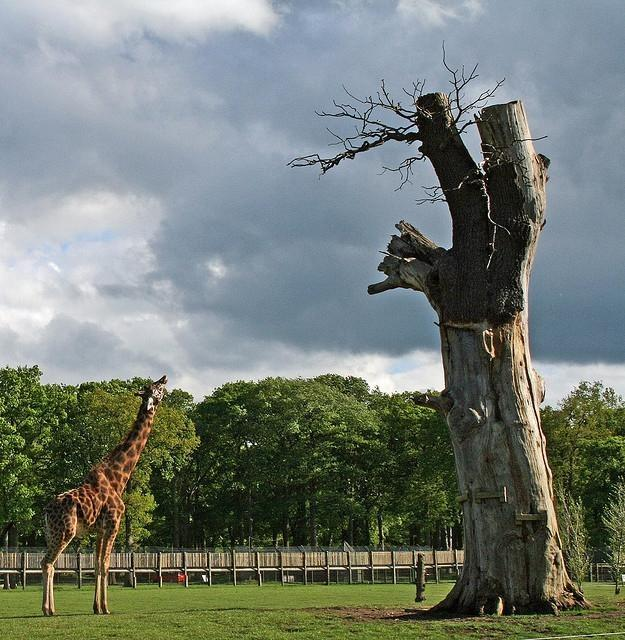car: (151, 572, 186, 582)
